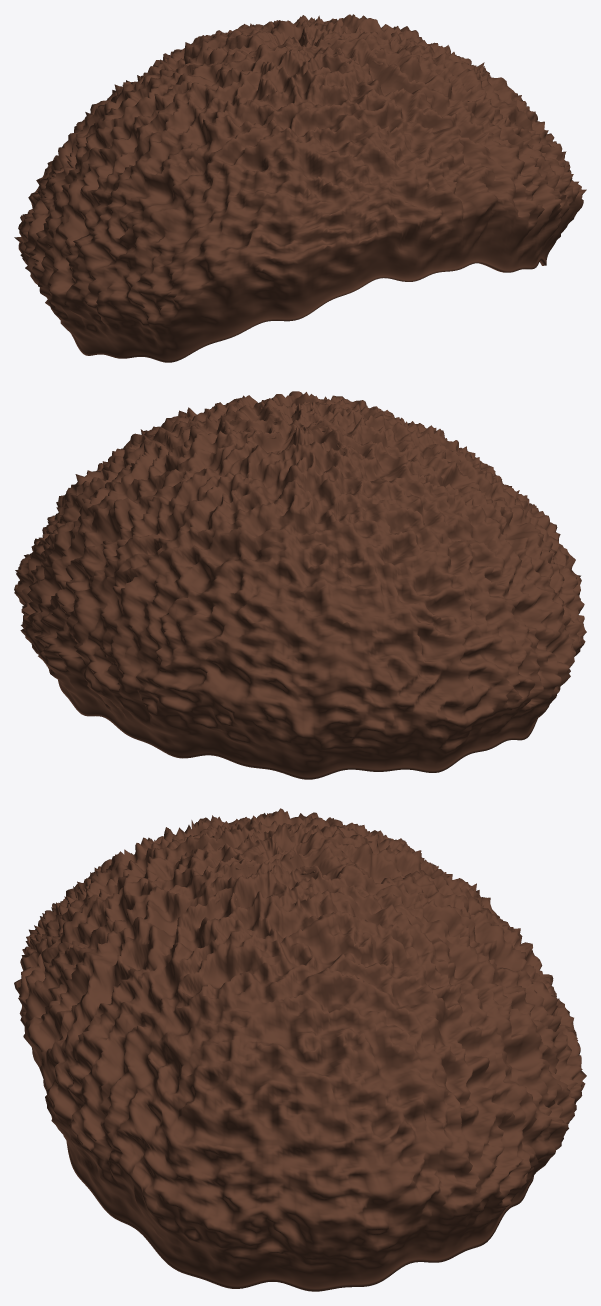
File: Masculine-afro-hair252.glb
3 views of the same model, one above another, from view 1: azimuth 30°, elevation 25°; view 2: azimuth 150°, elevation 25°; view 3: azimuth 270°, elevation 25° (orthographic). The views are drawn at different scales.
Visible parts, largest first — view 1: 226 hair / Hair252 / dense natural coil groups; view 2: 226 hair / Hair252 / dense natural coil groups; view 3: 226 hair / Hair252 / dense natural coil groups.
Boxes of the visible parts, x1=… form: 226 hair / Hair252 / dense natural coil groups: x1=14, y1=14, x2=586, y2=362; 226 hair / Hair252 / dense natural coil groups: x1=14, y1=391, x2=586, y2=779; 226 hair / Hair252 / dense natural coil groups: x1=14, y1=808, x2=586, y2=1291.
Bounding box in the file's own units: 1.12 × 0.548 × 0.8871.
